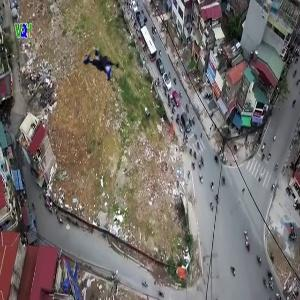drone: (68, 41, 132, 105)
